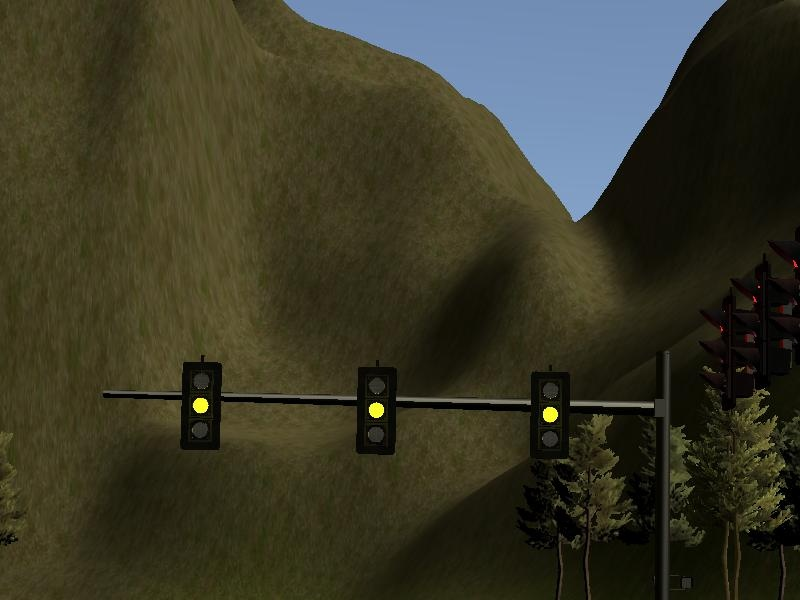yellow: (176, 356, 226, 455), (352, 360, 400, 460), (527, 365, 573, 466)
